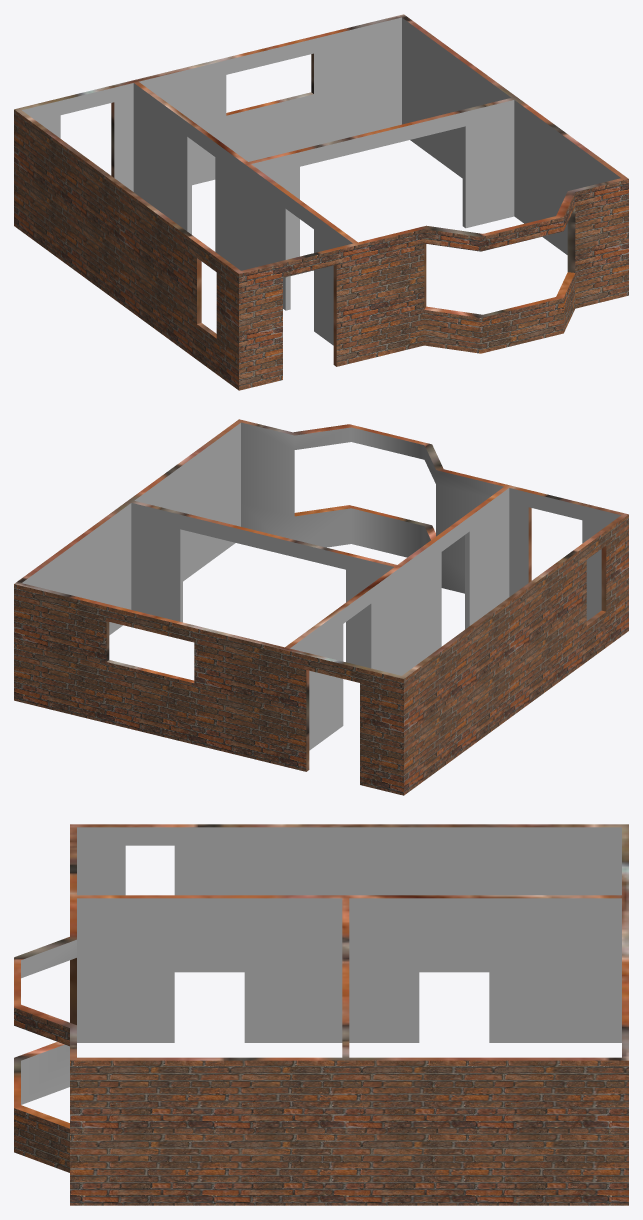
Rendered from DownstairsWalls.FBX.
3 views of the same model, one above another, from view 1: azimuth 30°, elevation 25°; view 2: azimuth 150°, elevation 25°; view 3: azimuth 270°, elevation 25° (orthographic). The views are drawn at different scales.
Parts seen in each view (by area): view 1: GroundFloorWalls; view 2: GroundFloorWalls; view 3: GroundFloorWalls.
Part boxes in pixels (bbox=[...]): GroundFloorWalls: bbox=[14, 14, 628, 390]; GroundFloorWalls: bbox=[14, 419, 628, 795]; GroundFloorWalls: bbox=[14, 824, 628, 1205].
Size of the model in its own units: 839 by 240 by 923.
